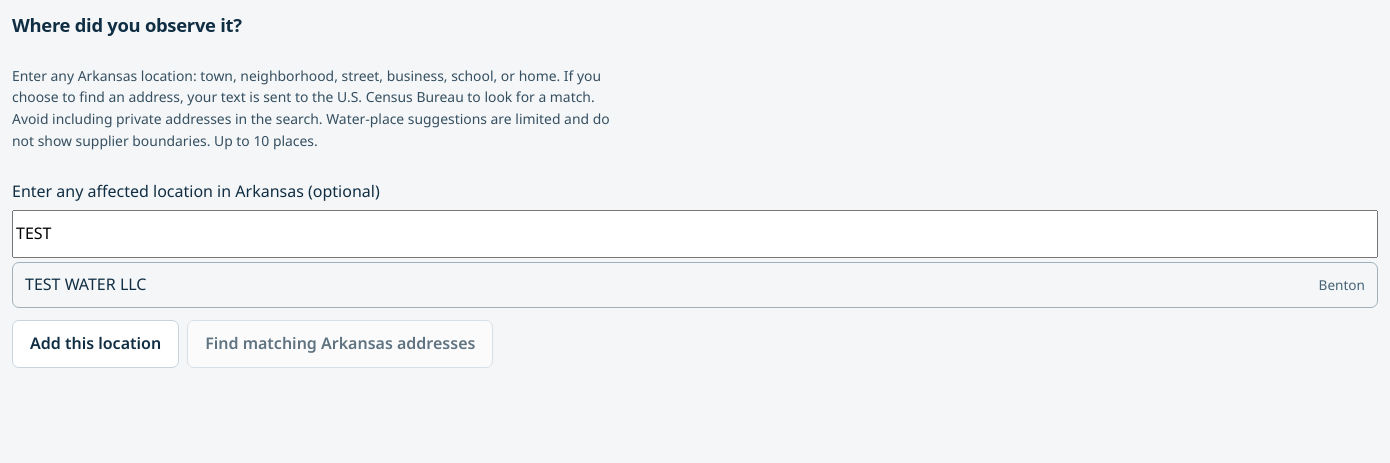
Test: catalog matches appear while typing and arrows/Enter select without entering raw query
The width and height of the screenshot is (1390, 463).
Earlier steps of the test are not shown.
Later steps or results of the test are not shown.
Expected: the option "TEST WATER LLC Benton" is shown, [25,274,1365,296]
Press ArrowDown in the dropdown labelled "Enter any affected location in Arkansas (optional)", box [12,210,1378,258]
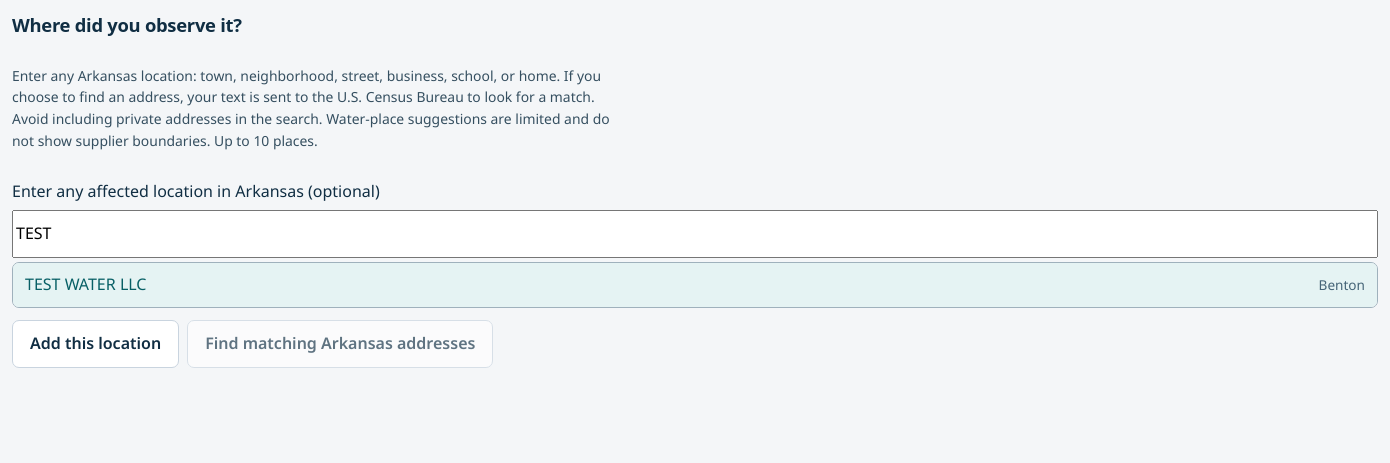
Press Enter in the dropdown labelled "Enter any affected location in Arkansas (optional)", box [12,210,1378,258]
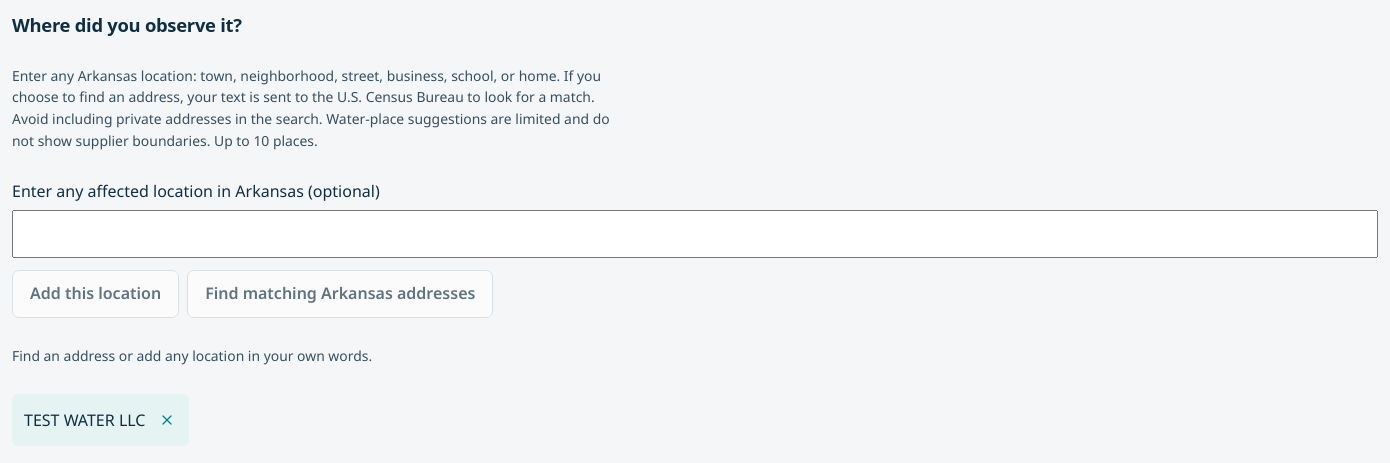
Expected: the button named "Remove location: TEST WATER LLC" is shown, [154,398,182,442]
In the dropdown labelled "Enter any affected location in Arkansas (optional)": point(695, 234) [12,210,1378,258], type "SECOND"
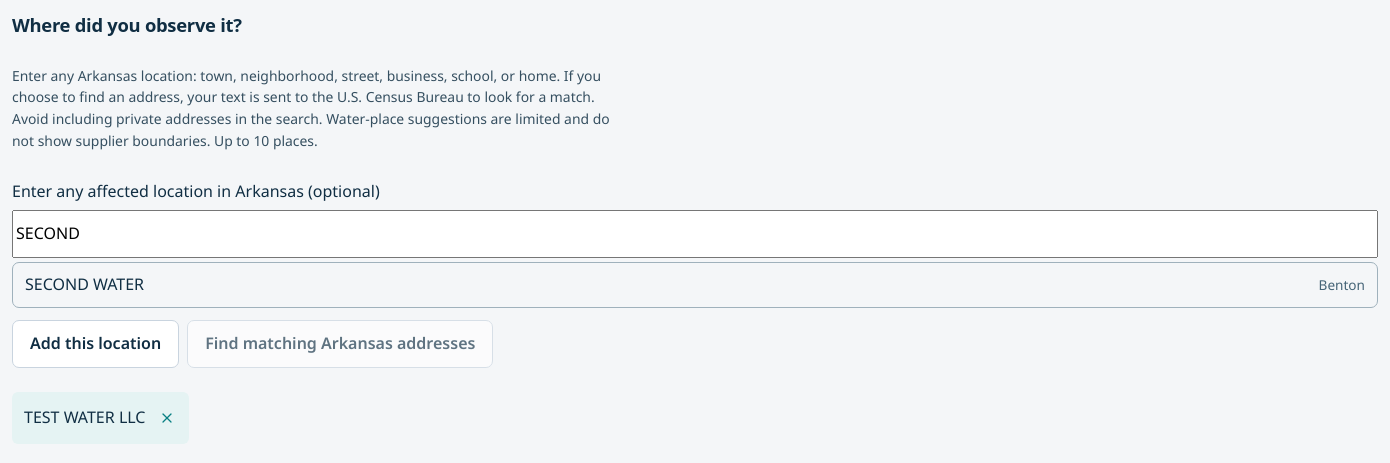
Press Escape in the dropdown labelled "Enter any affected location in Arkansas (optional)", box [12,210,1378,258]
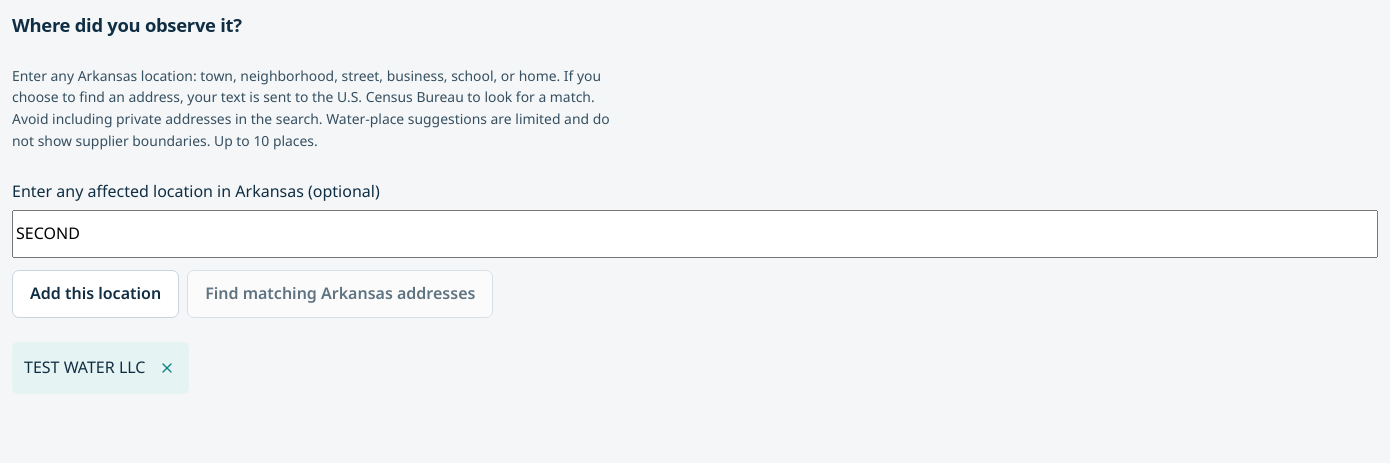
Expected: the list "SECOND WATER Benton" is gone
Replace the text in the dropdown labelled "Enter any affected location in Arkansas (optional)" with "Community hall": point(695, 234) [12,210,1378,258]
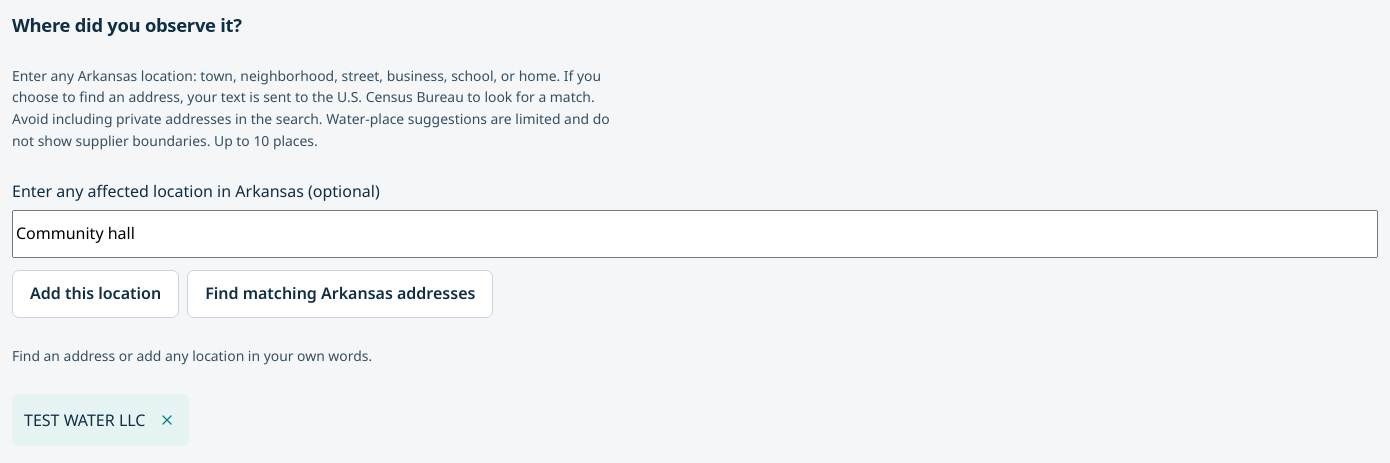
Press Enter in the dropdown labelled "Enter any affected location in Arkansas (optional)", box [12,210,1378,258]
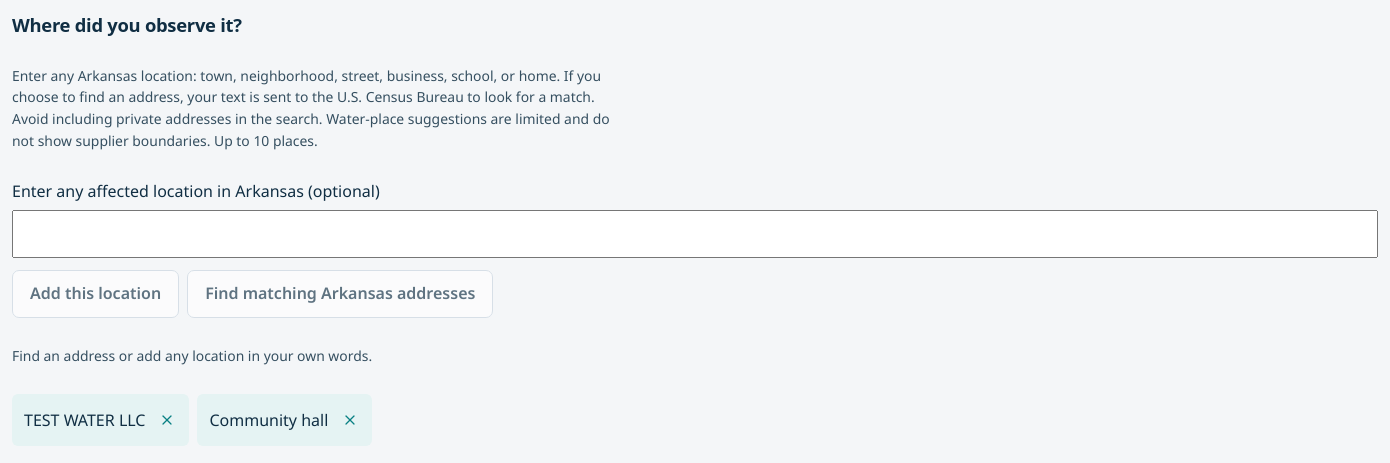
Expected: the button named "Remove location: Community hall" is shown, [336,398,364,442]
